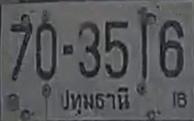0: (35, 20, 56, 80)
1: (137, 22, 149, 79)
3: (77, 20, 100, 78)
5: (104, 20, 128, 78)
6: (158, 19, 184, 77)
7: (10, 19, 32, 80)
PTE: (54, 82, 137, 114)
